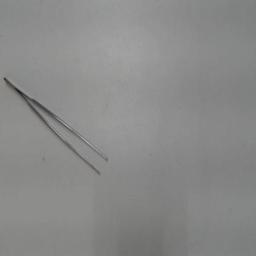Gillies Toothed Dissector: (1, 72, 113, 186)
